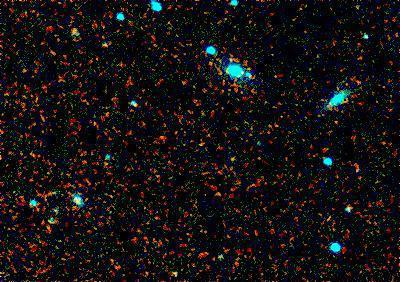star: (216, 47, 246, 77)
